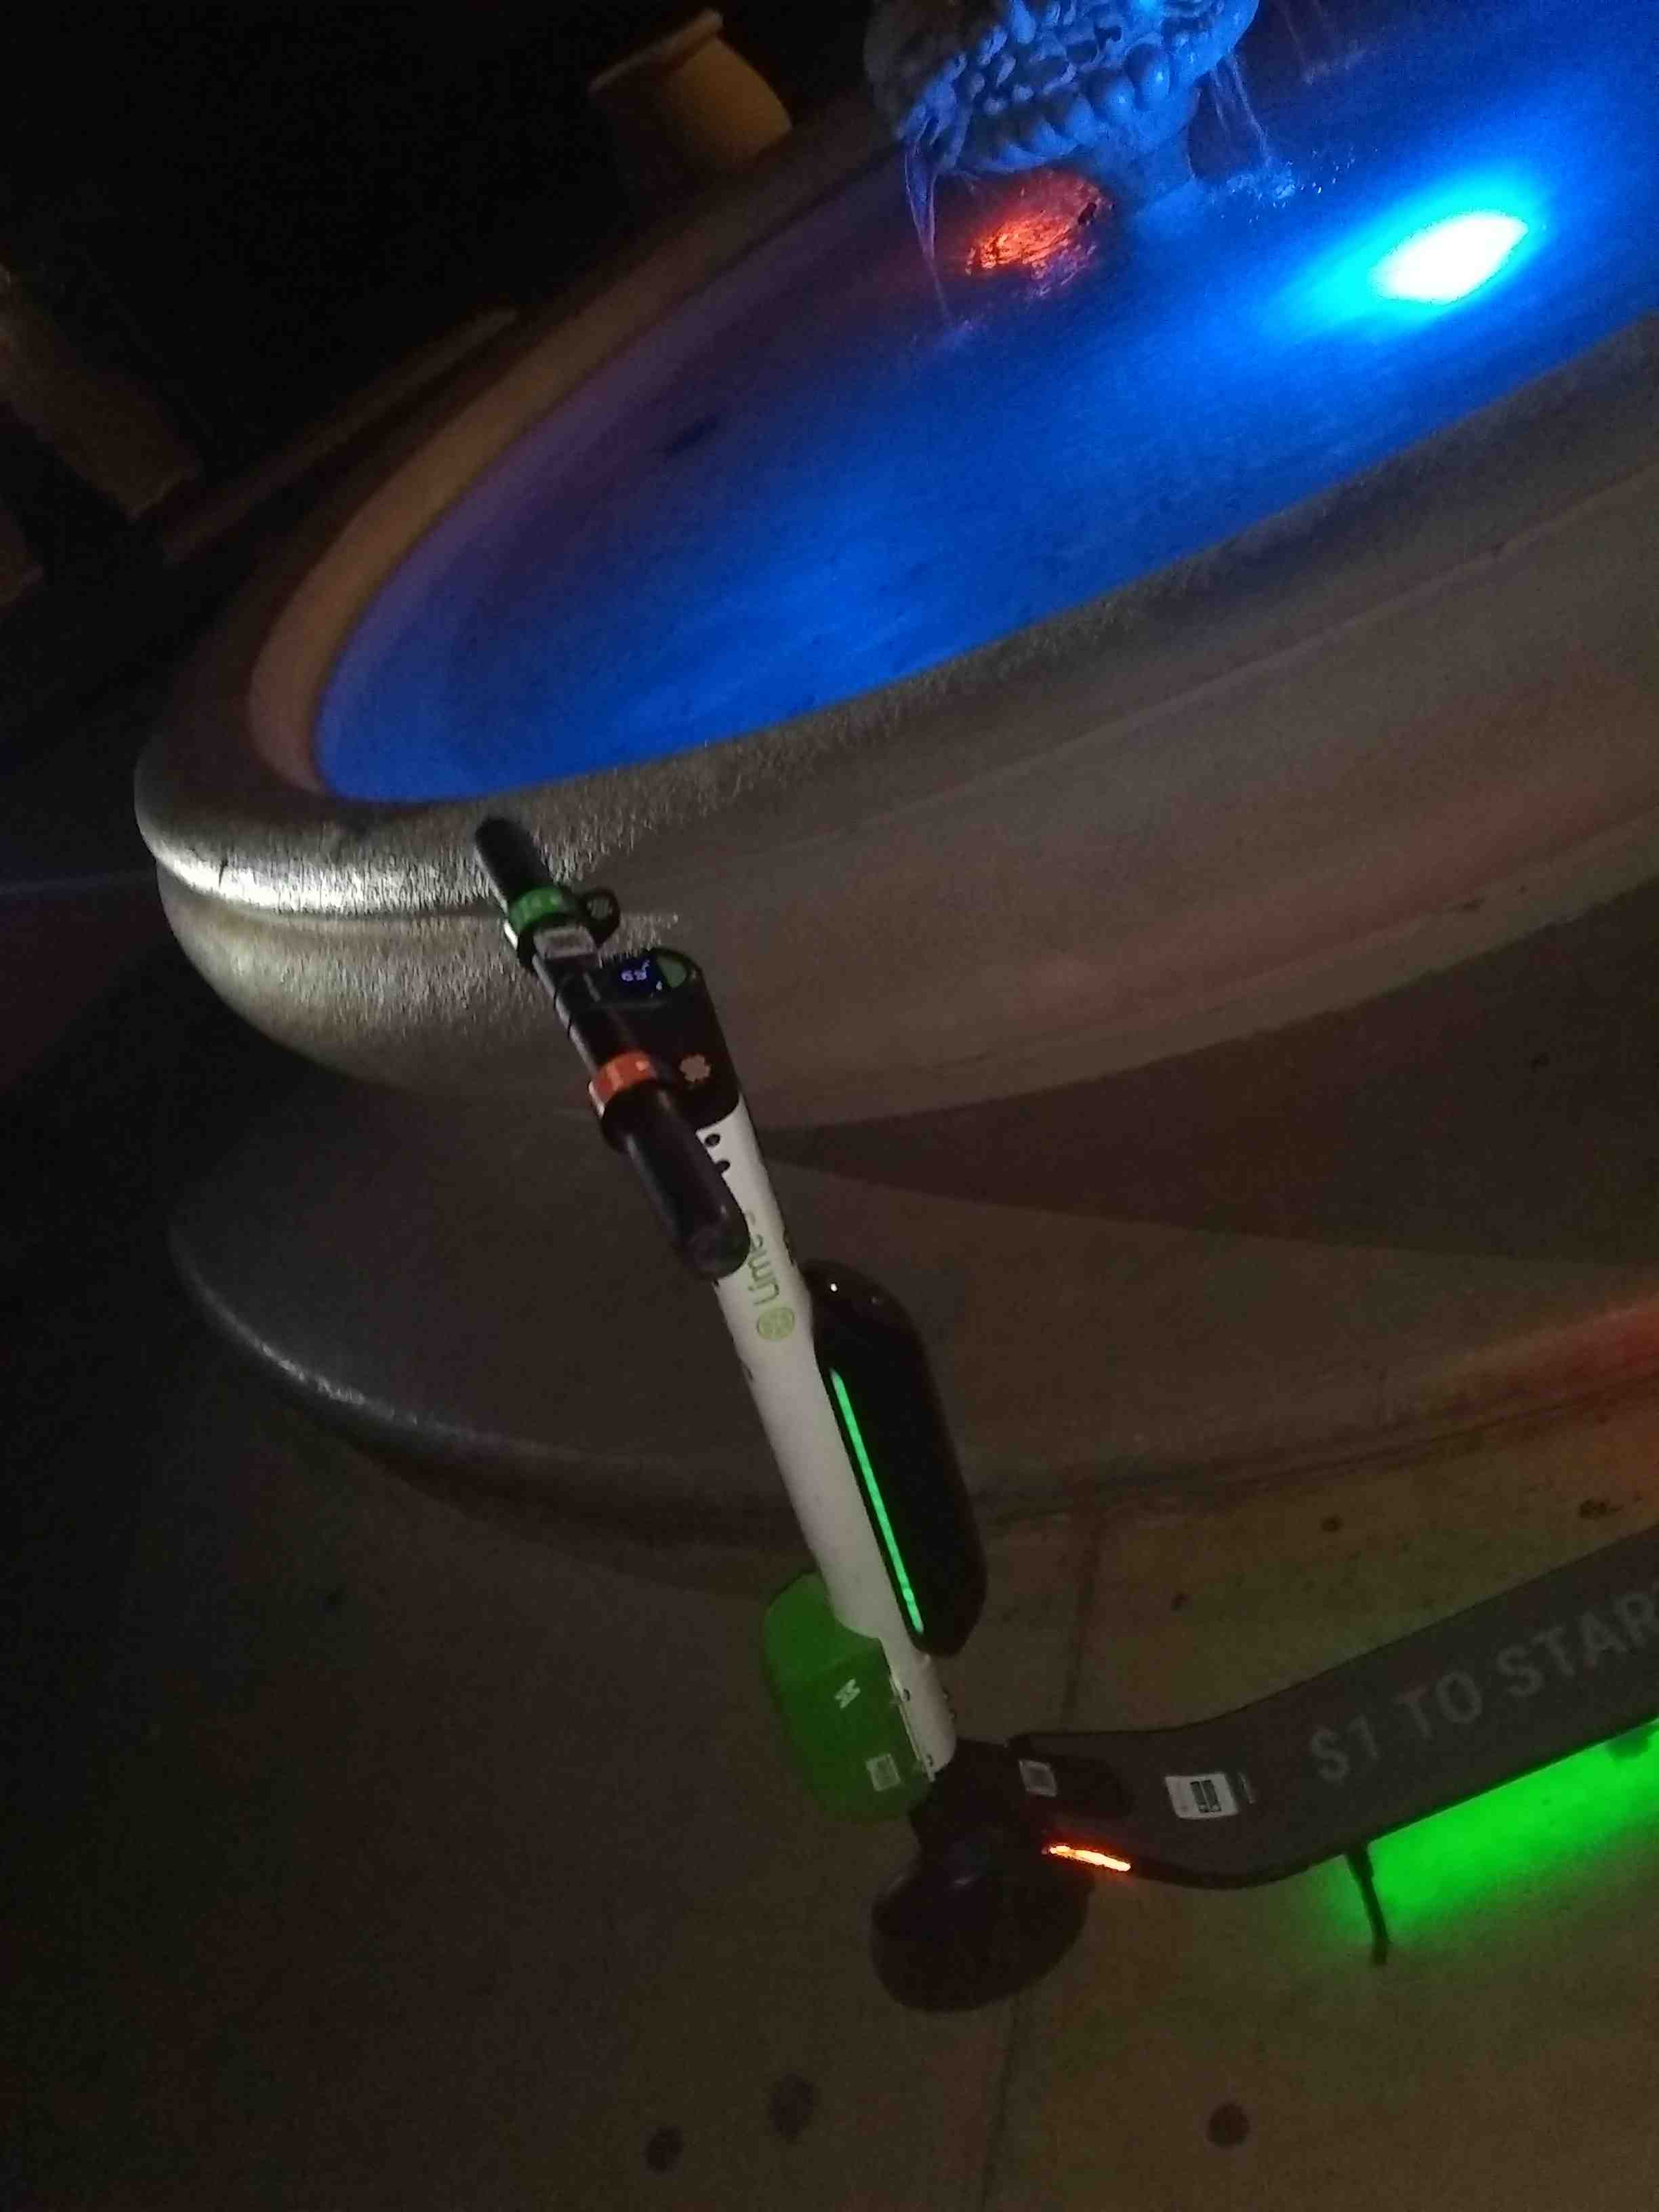scooter: (265, 784, 1638, 2088)
